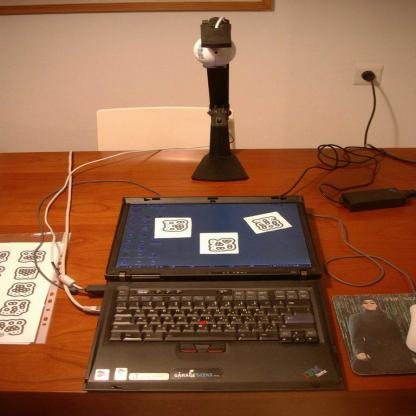board: (91, 181, 333, 396)
